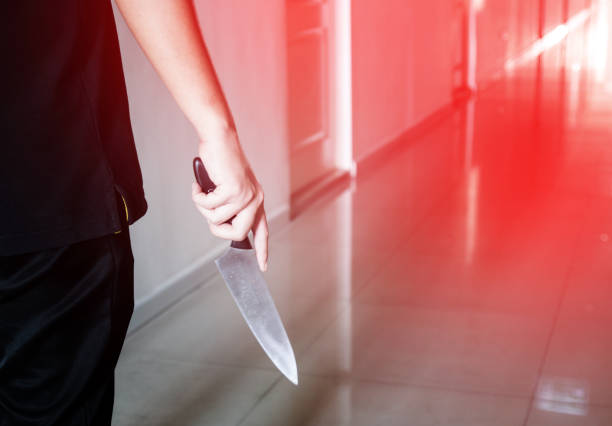knife: (189, 155, 300, 389)
